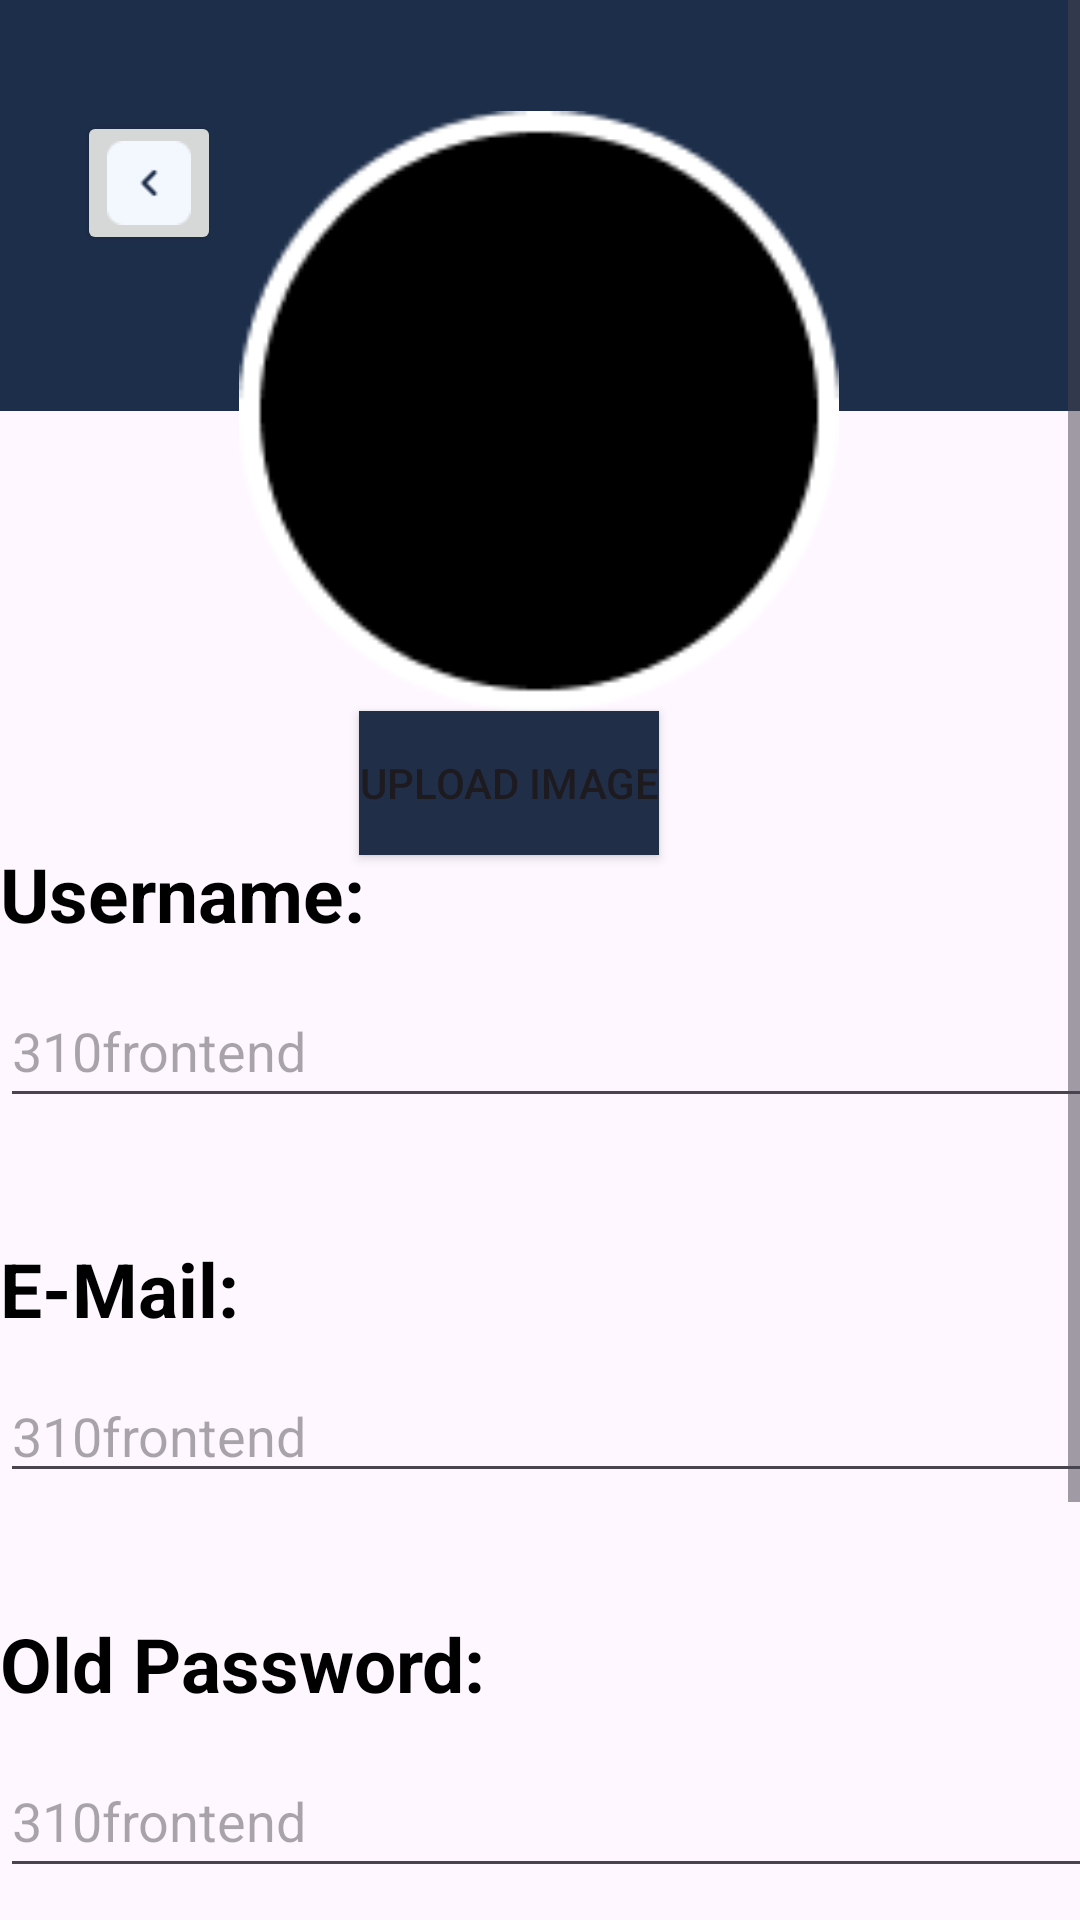

Screen size 1080×1920. Icon name, then its box in pixels as (x1, y1, x2, y2):
Back Button: (89, 129, 209, 237)
